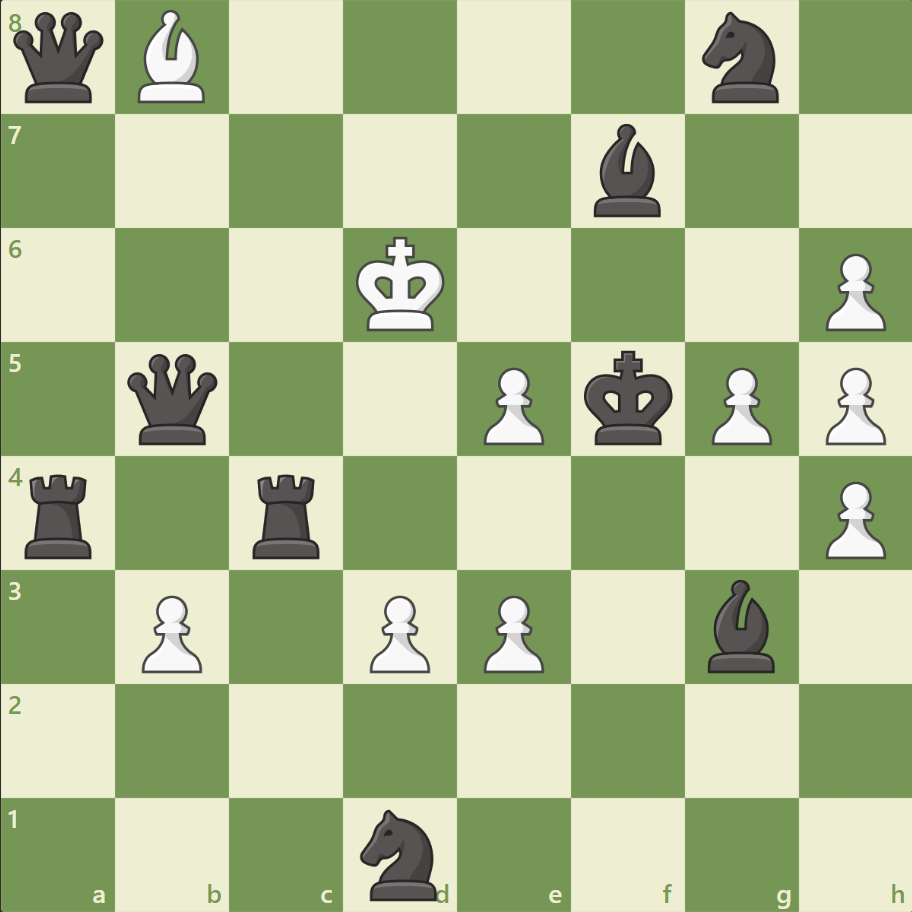B: (131, 6, 215, 109)
K: (351, 231, 451, 339)
P: (474, 359, 549, 450), (701, 359, 776, 450), (133, 586, 208, 677), (474, 586, 549, 677), (815, 246, 889, 337), (815, 359, 889, 450), (815, 473, 889, 564), (361, 586, 435, 677)
b: (585, 120, 669, 222), (698, 574, 782, 676)
k: (579, 344, 679, 452)
n: (351, 802, 449, 904), (692, 7, 789, 110)
q: (124, 349, 223, 449), (10, 9, 109, 108)
r: (19, 466, 102, 563), (246, 466, 329, 563)
